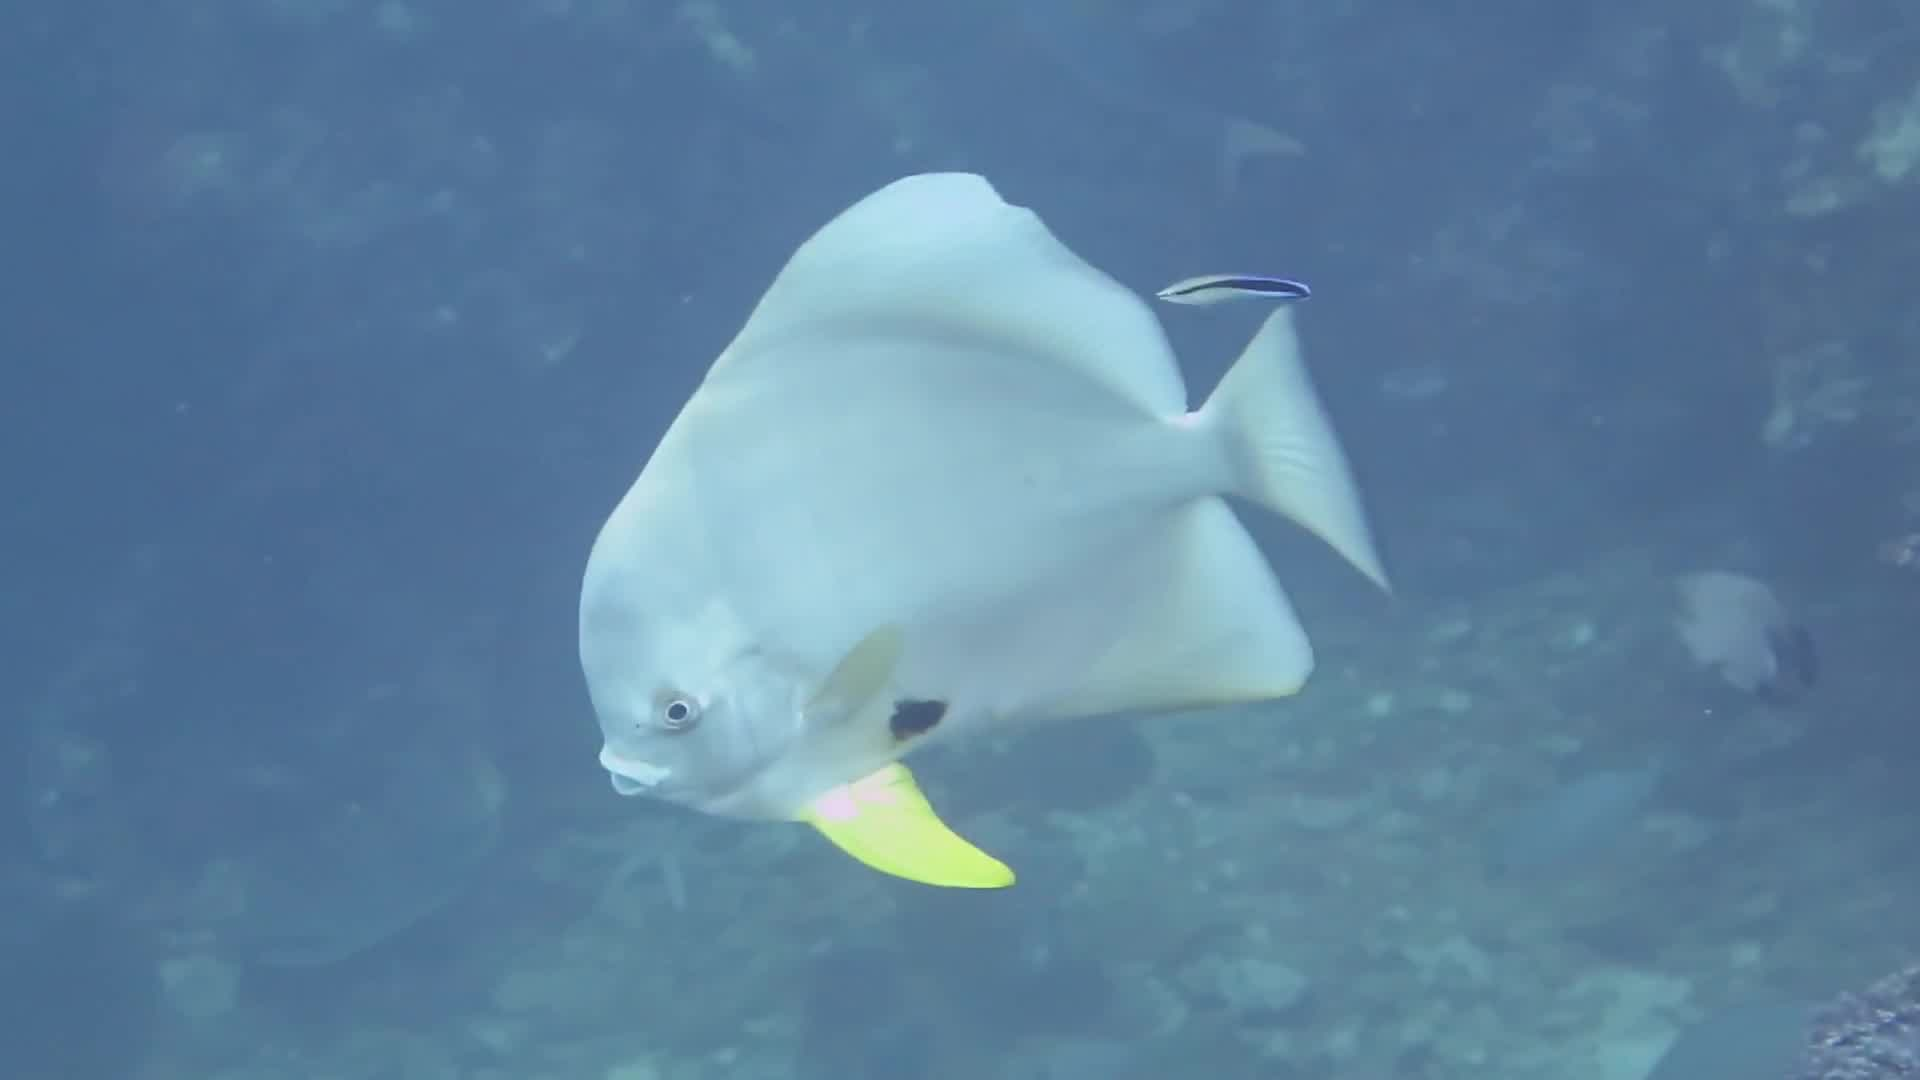Platax teira: (568, 105, 1396, 926)
